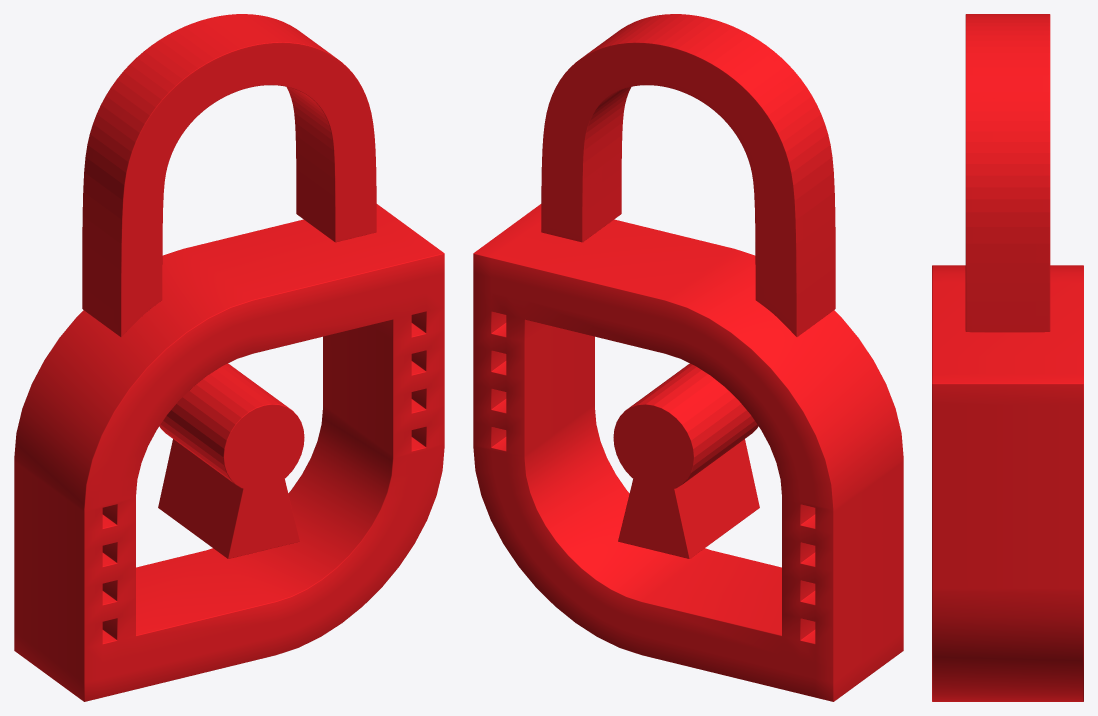
The model's file is lock-vfx-studio.glb.
3 renders of one model, left to right at view 1: azimuth 30°, elevation 25°; view 2: azimuth 150°, elevation 25°; view 3: azimuth 270°, elevation 25°, orthographic. The views are drawn at different scales.
Visible parts, largest first — view 1: Body, Shackle; view 2: Body, Shackle; view 3: Body, Shackle.
Part boxes in pixels (x1,y1,x2,y2): Body: (14, 204, 444, 701); Shackle: (82, 14, 376, 336); Body: (473, 204, 903, 701); Shackle: (541, 14, 835, 336); Body: (932, 265, 1083, 701); Shackle: (965, 14, 1050, 332).
Size of the model in its own units: 5.92 by 9.42 by 2.
